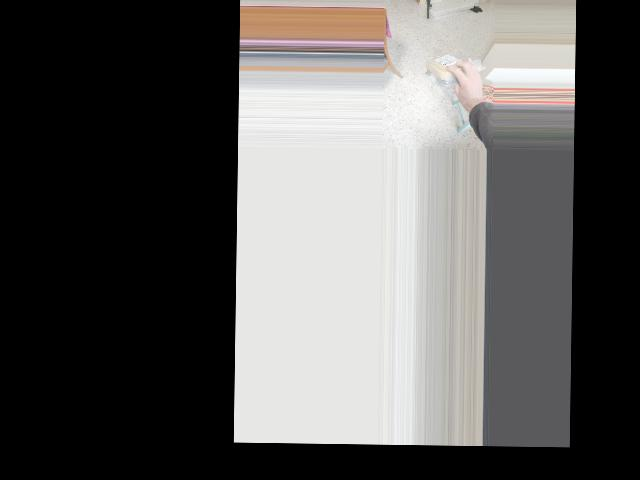cheese: (423, 52, 469, 82)
